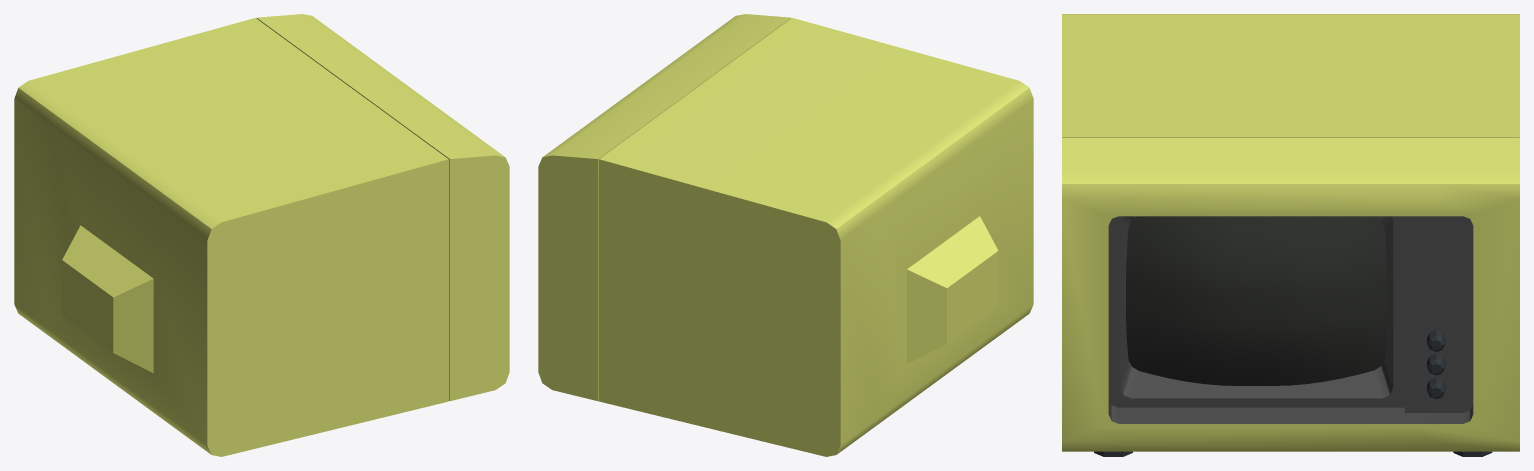
Rendered from crt_unity.fbx.
The picture shows the model from 3 angles, left to right: view 1: azimuth 30°, elevation 25°; view 2: azimuth 150°, elevation 25°; view 3: azimuth 270°, elevation 25°; orthographic projection. The views are drawn at different scales.
Parts seen in each view (by area): view 1: group1_pCube9; view 2: group1_pCube9; view 3: group1_pCube9, polySurface1.
Boxes of the visible parts, box(x1,y1,x2,y2) form: group1_pCube9: box(14, 14, 509, 456); group1_pCube9: box(538, 14, 1033, 456); group1_pCube9: box(1062, 14, 1519, 456); polySurface1: box(1126, 216, 1387, 385).
Bounding box in the file's own units: 5.05 × 3.69 × 5.1.
